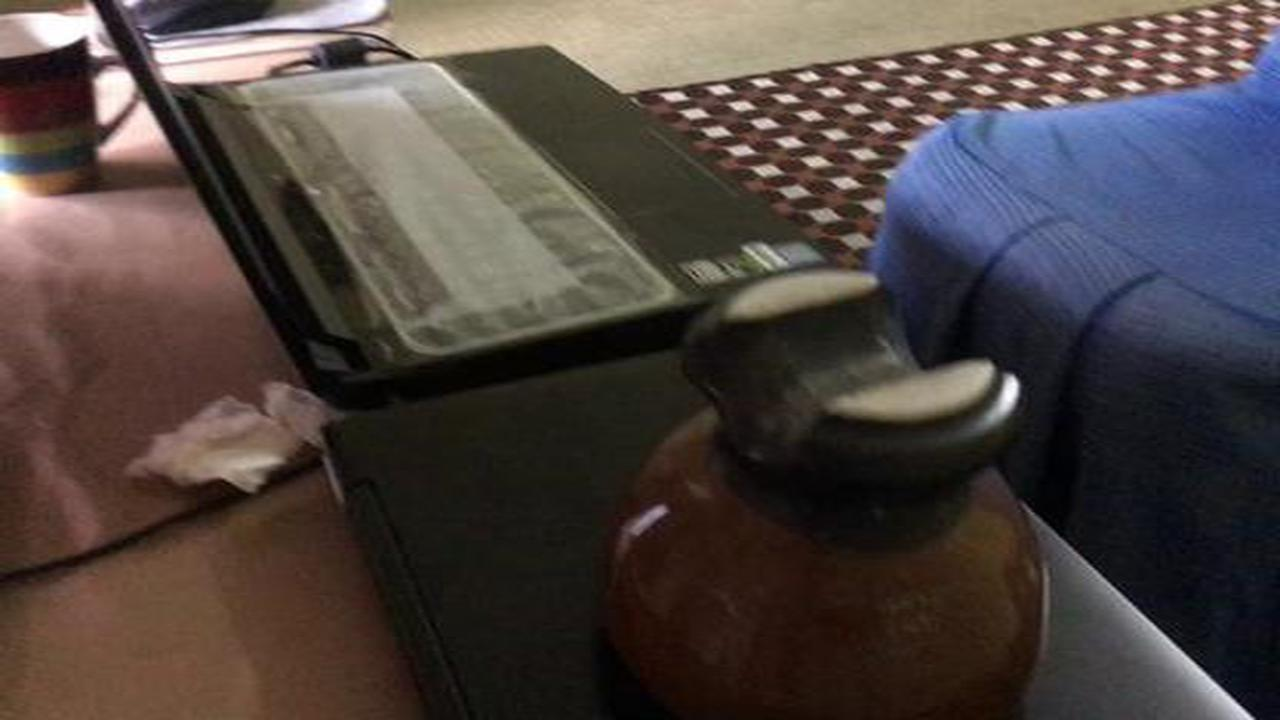insulator_pin: (588, 257, 1062, 720)
